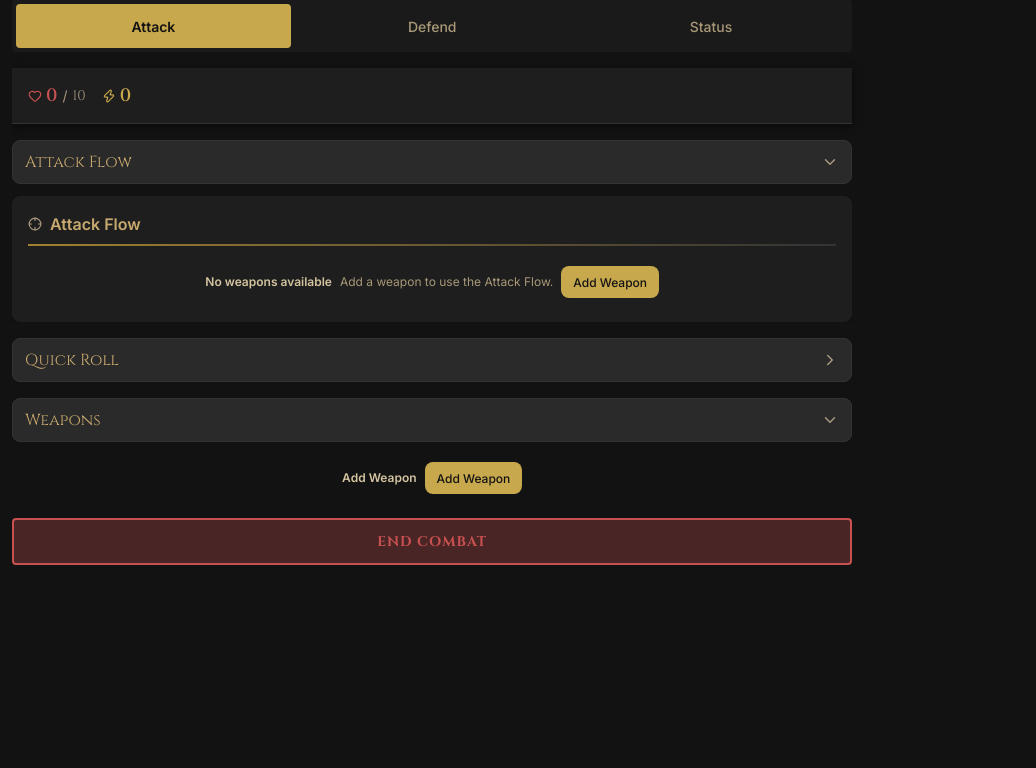
CombatPage contextual visibility - Roll History › shows Roll History section when rollHistory has entries
Roll History is in Status mode
What coordinates should you click on to do the following:
click the tab "Status"
I would click on:
 (711, 26)
Its box is left=574, top=4, right=848, bottom=48.
(page scrolled)
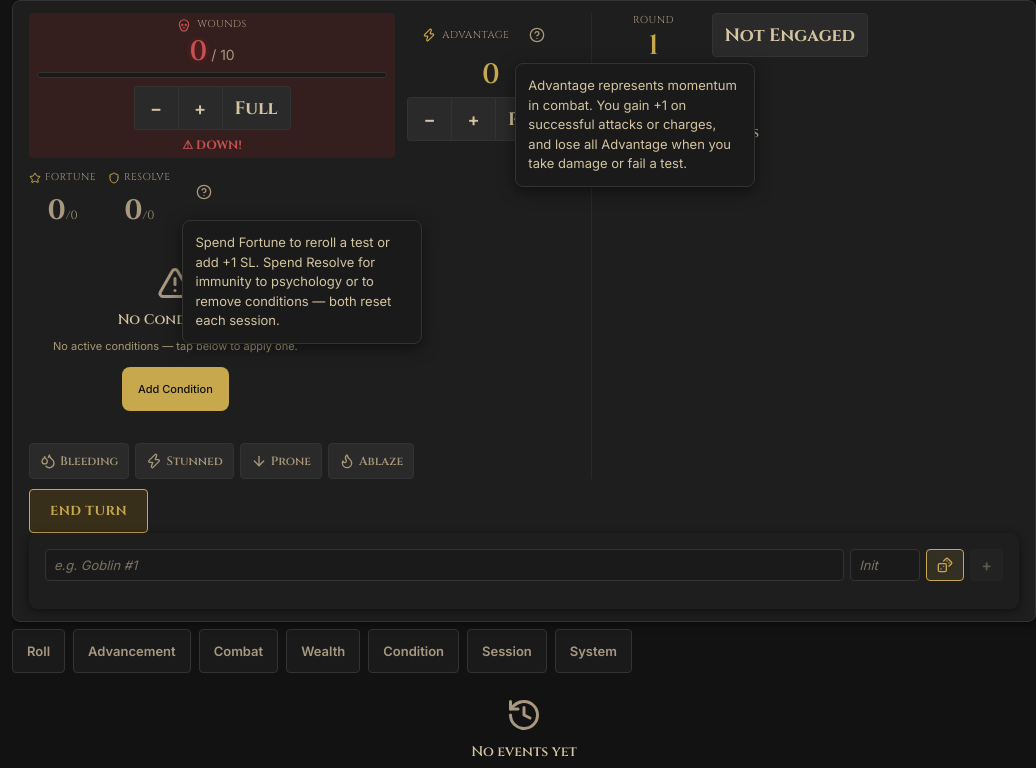
Expected: the text "Roll History" is shown, left=25, top=372, right=134, bottom=394
